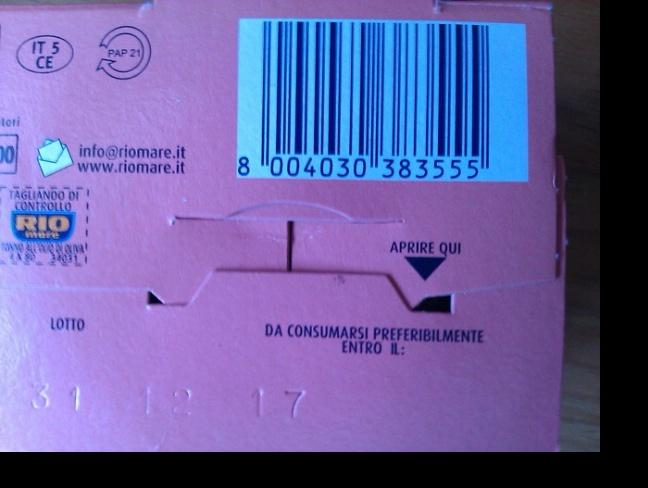Barcode: (235, 17, 495, 183)
